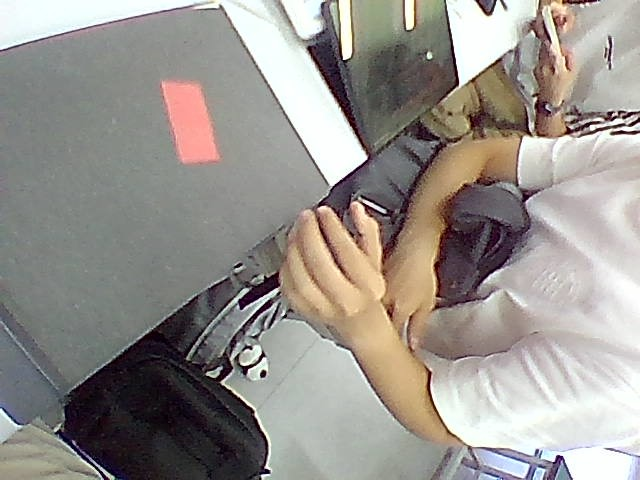card: (162, 81, 219, 164)
